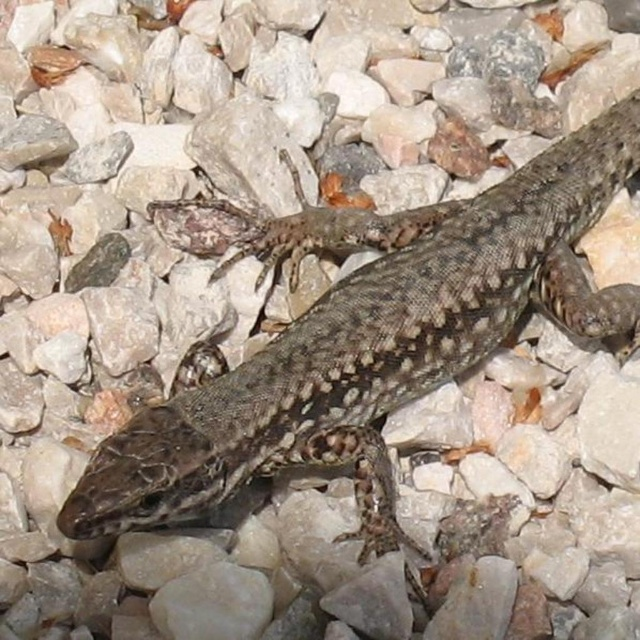Lizard: (39, 74, 640, 605)
